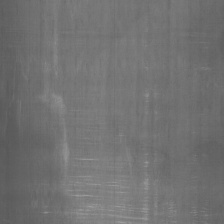waist_folding: (36, 75, 187, 224)
